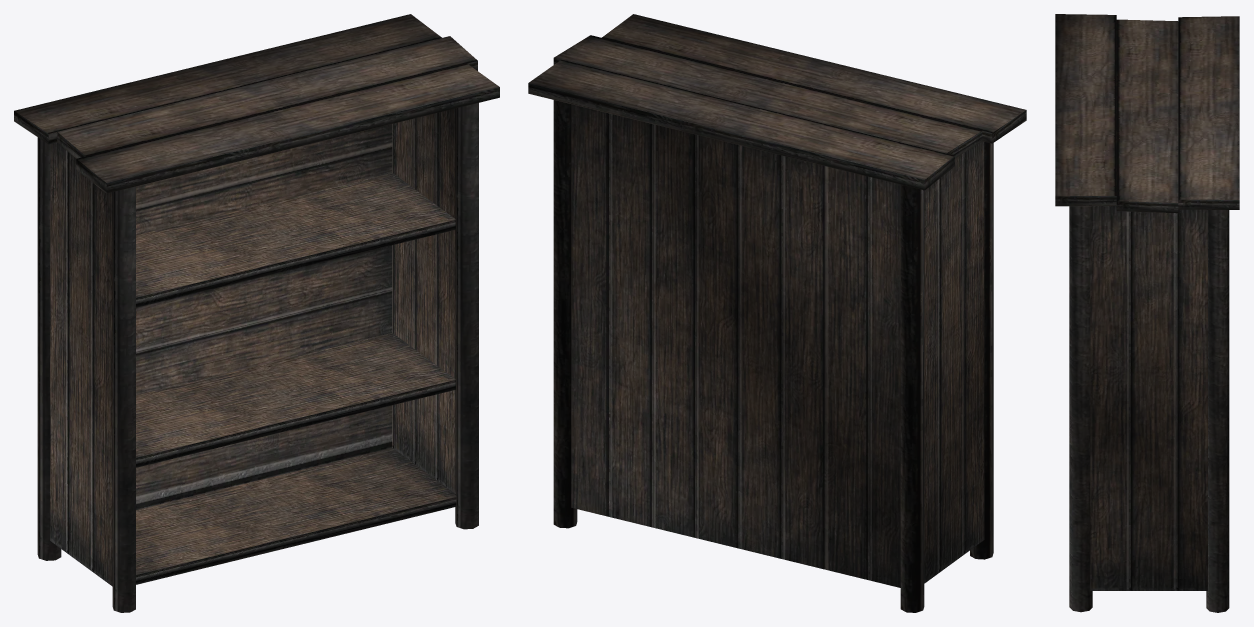
The model's file is GS_BOOKSHELF_OPEN_BLACK_01_KOZA.glb.
3 views of the same model, side by side, from view 1: azimuth 30°, elevation 25°; view 2: azimuth 150°, elevation 25°; view 3: azimuth 270°, elevation 25° (orthographic). The views are drawn at different scales.
Visible parts, largest first — view 1: Mesh; view 2: Mesh; view 3: Mesh.
Boxes of the visible parts, x1,y1,x2,y2 form: Mesh: [14, 14, 499, 612]; Mesh: [528, 14, 1026, 612]; Mesh: [1055, 14, 1239, 612].
Size of the model in its own units: 1.4 by 1.45 by 0.5777.
Materials: 2 (2 with a texture image).
